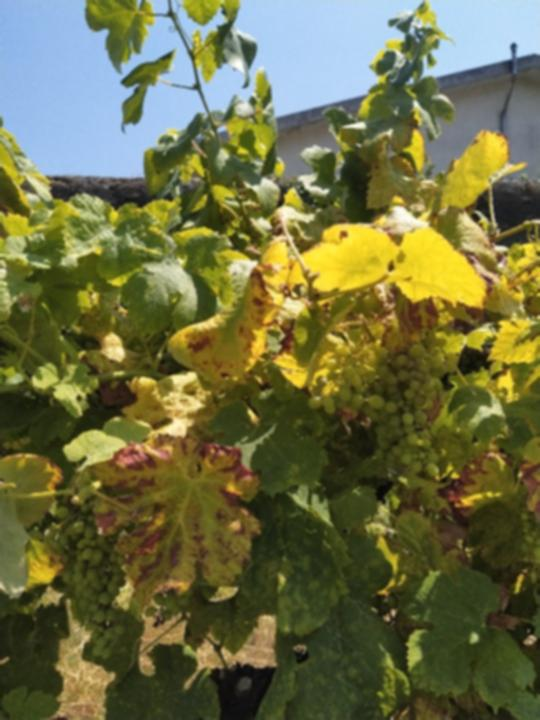grape: (307, 331, 444, 480), (41, 500, 128, 661)
